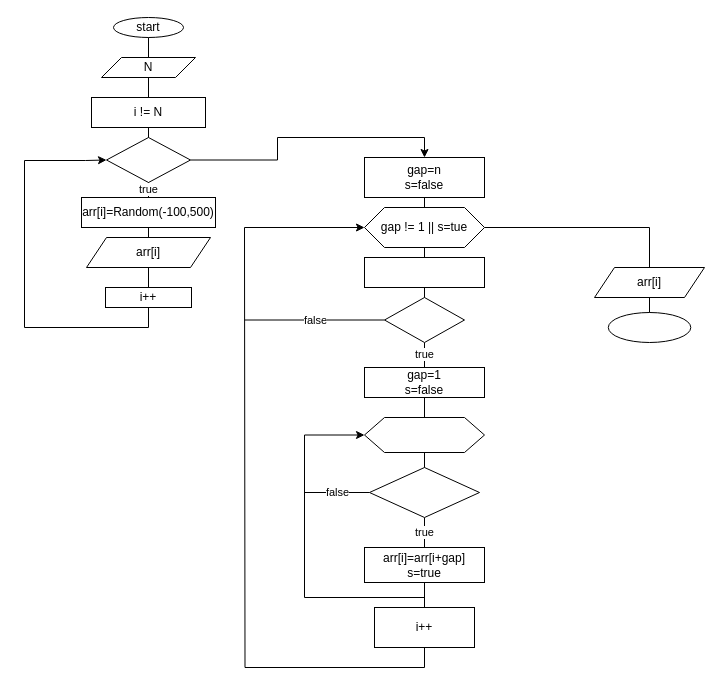
Some shapes in this 722 by 686 pixel diagram are drawn without their labels. The shapes that lost their labels are listed below. From the top down, each one's centre as x and y in pixels, then its label:
At pixel 148 159: "i<=N".
At pixel 424 272: "gap=[gap/1.3]".
At pixel 424 319: "gap<1".
At pixel 649 327: "end".
At pixel 424 434: "n>i+gap".
At pixel 424 492: "arr[i]>arr[i+gap]".
